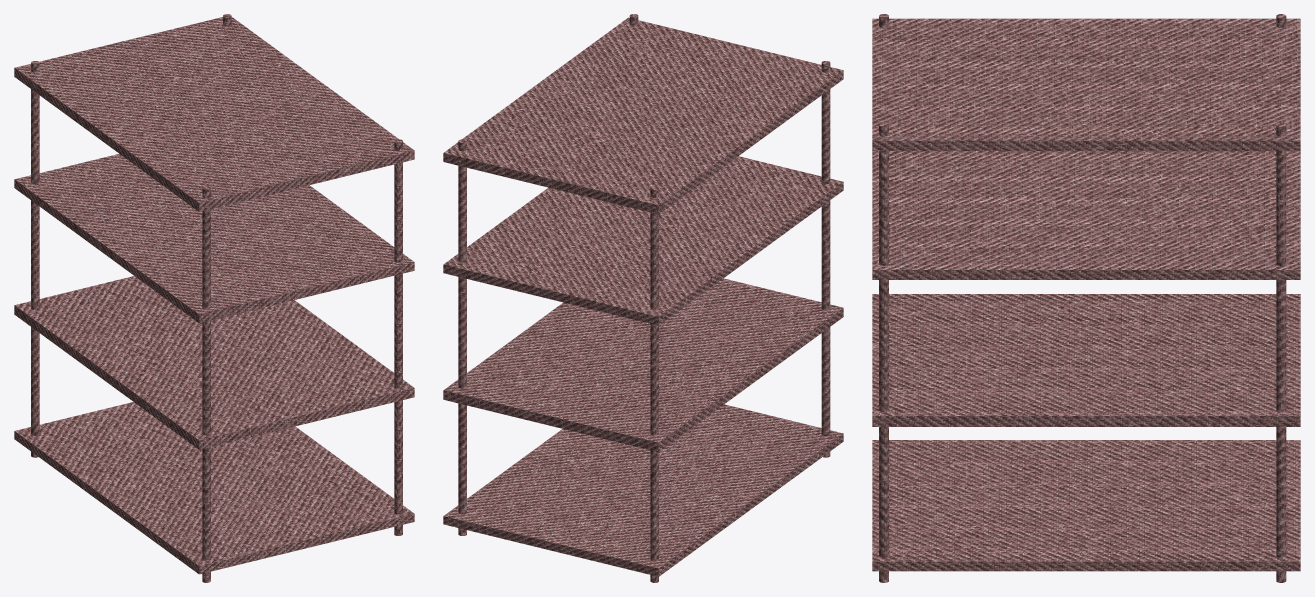
Rendered from Estanteria almacen.fbx.
3 views of the same model, side by side, from view 1: azimuth 30°, elevation 25°; view 2: azimuth 150°, elevation 25°; view 3: azimuth 270°, elevation 25° (orthographic). The views are drawn at different scales.
Parts seen in each view (by area): view 1: Box001; view 2: Box001; view 3: Box001.
Part boxes in pixels (<box>): Box001: <box>14,14,414,582</box>; Box001: <box>443,14,843,582</box>; Box001: <box>872,14,1300,582</box>.
Size of the model in its own units: 54.36 by 94.82 by 80.75.
